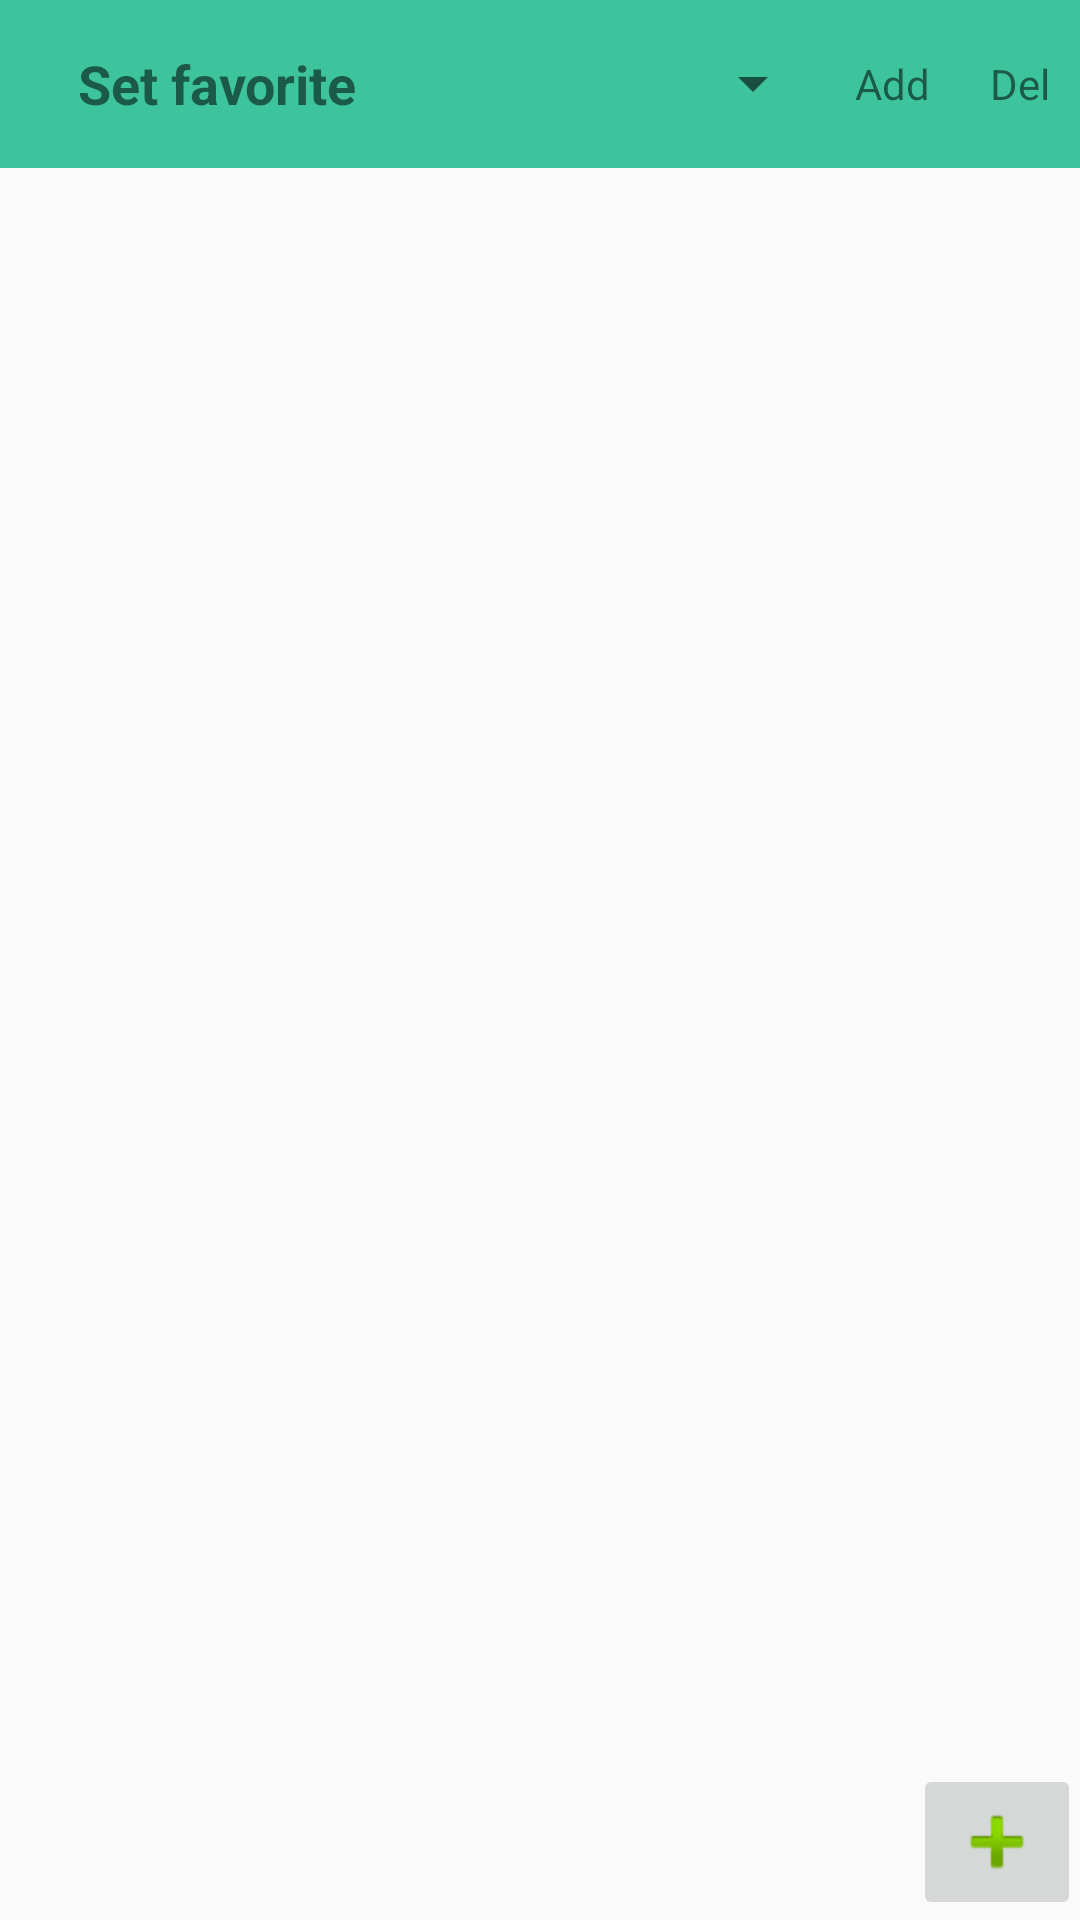

Icon bounding boxes for this 1080w x 1920h phone screenshot, format detection(x1, y1, x2, y2):
add: detection(925, 1782, 1069, 1902)
